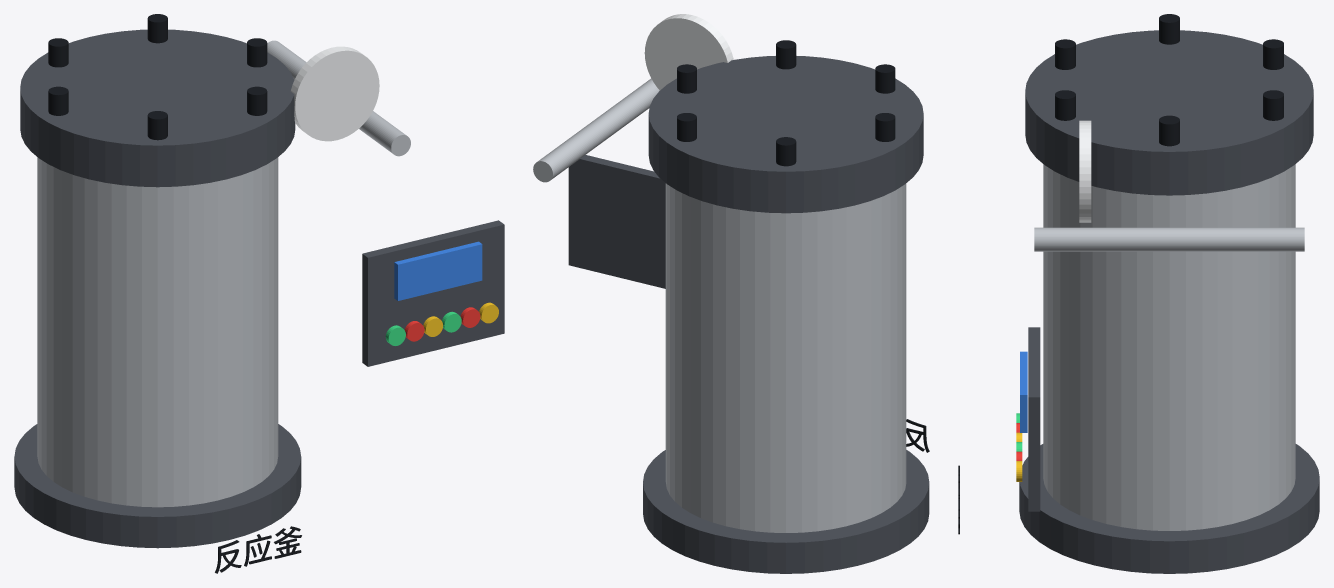
File: asset_reactor.glb
3 renders of one model, left to right at view 1: azimuth 30°, elevation 25°; view 2: azimuth 150°, elevation 25°; view 3: azimuth 270°, elevation 25°, orthographic. The views are drawn at different scales.
Parts seen in each view (by area): view 1: vessel, top_lid, base_ring, reactor_panel, pressure_gauge, reactor_screen, pipe_out, asset_label; view 2: vessel, top_lid, base_ring, reactor_panel, pressure_gauge, pipe_out, bolt_4, bolt_2, bolt_5, bolt_3, bolt_0, bolt_1; view 3: vessel, top_lid, base_ring, pipe_out, reactor_panel, pressure_gauge, reactor_screen, bolt_0, bolt_1, bolt_5, bolt_2, bolt_3 (+1 smaller).
Boxes of the visible parts, x1,y1,x2,y2 form: vessel: (37,157,278,507); top_lid: (20,29,295,187); base_ring: (14,424,301,548); reactor_panel: (362,220,504,366); pressure_gauge: (290,46,379,141); reactor_screen: (394,241,482,300); pipe_out: (267,40,410,156); asset_label: (215,526,301,573); vessel: (665,183,906,532); top_lid: (648,56,923,213); base_ring: (643,450,929,573); reactor_panel: (568,155,665,288); pressure_gauge: (644,14,733,90); pipe_out: (533,78,659,182); bolt_4: (875,64,895,93); bolt_2: (776,137,796,166); bolt_5: (776,40,796,69); bolt_3: (875,113,895,141); bolt_0: (677,64,696,93); bolt_1: (677,113,696,141); vessel: (1043,164,1295,530); top_lid: (1025,30,1313,195); base_ring: (1019,444,1319,573); pipe_out: (1034,227,1304,251); reactor_panel: (1028,327,1040,511); pressure_gauge: (1079,120,1091,222); reactor_screen: (1020,351,1027,432); bolt_0: (1159,115,1179,146); bolt_1: (1263,90,1283,120); bolt_5: (1055,90,1075,120); bolt_2: (1263,39,1283,69); bolt_3: (1159,14,1179,44).
Size of the model in its own units: 1.63 by 1.68 by 1.2.
